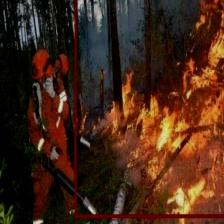fire: (74, 0, 224, 217)
